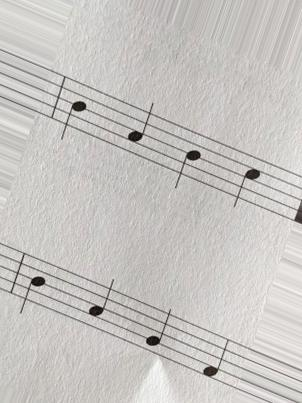A: (85, 277, 116, 338), (125, 102, 154, 166)
B: (15, 251, 51, 320), (170, 123, 204, 191), (58, 74, 88, 145)
F: (199, 325, 234, 389)
G: (141, 303, 178, 367)
HC: (229, 150, 263, 212)
